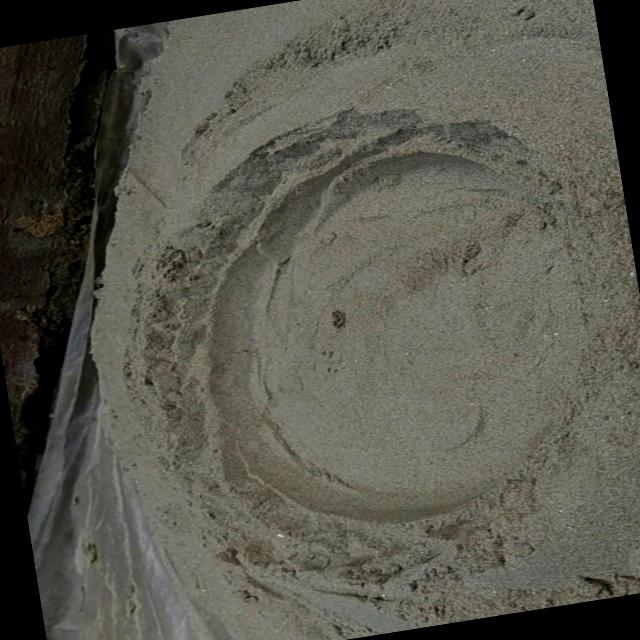C40: (203, 137, 585, 524)
